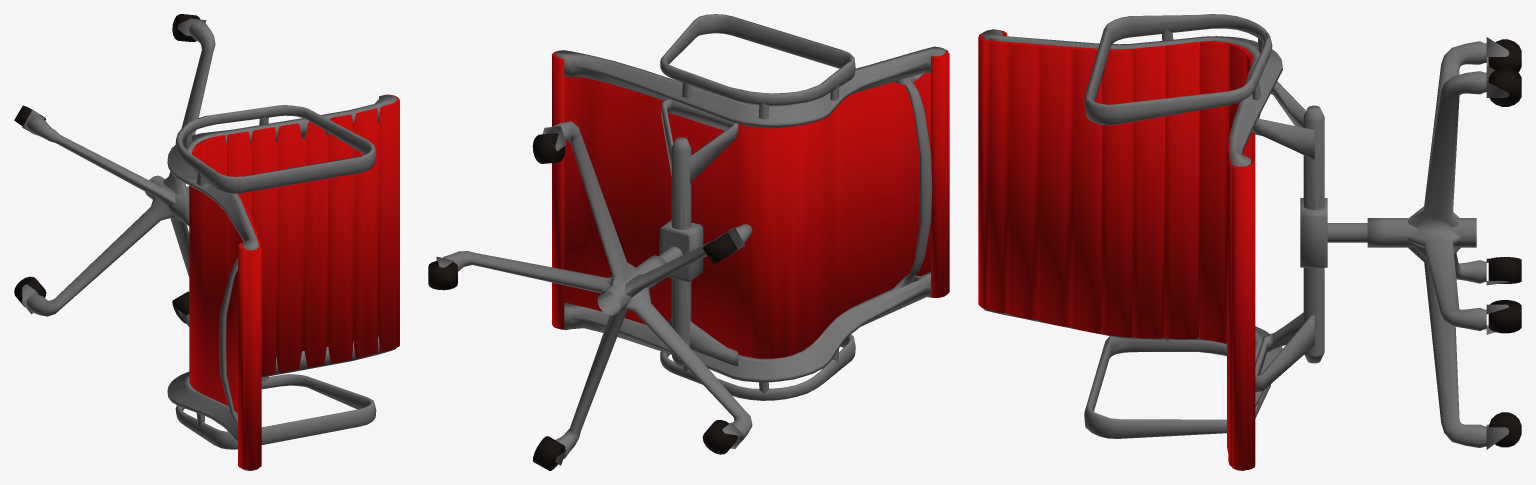
3 views of the same model, side by side, from view 1: azimuth 30°, elevation 25°; view 2: azimuth 150°, elevation 25°; view 3: azimuth 270°, elevation 25° (orthographic). The views are drawn at different scales.
Parts seen in each view (by area): view 1: modern office chair; view 2: modern office chair; view 3: modern office chair.
Part boxes in pixels (<box>): modern office chair: <box>14,14,399,470</box>; modern office chair: <box>428,14,949,470</box>; modern office chair: <box>978,14,1521,470</box>.
Bounding box in the file's own units: 24.38 × 25.62 × 33.08.
